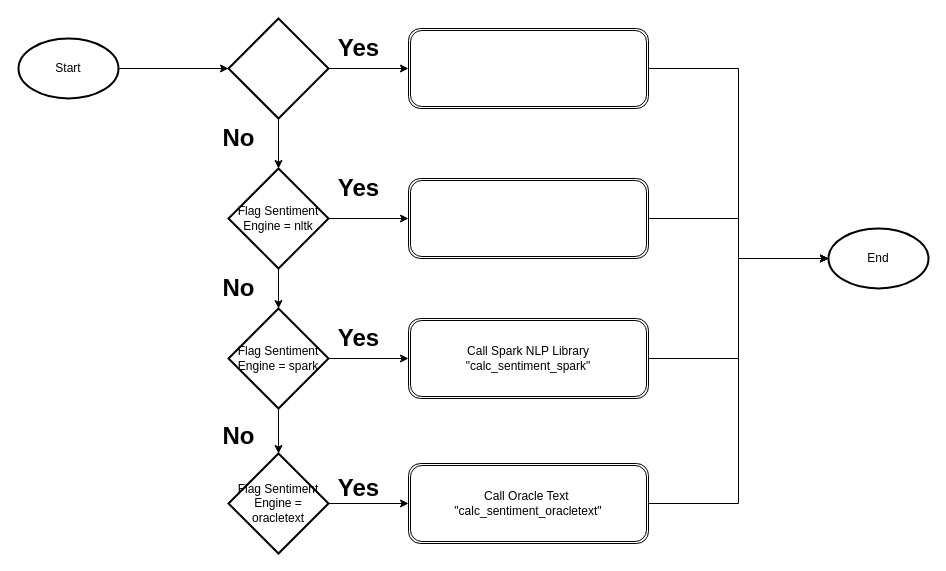
Some shapes in this 946 by 571 pixel diagram are drawn without their labels. Here are the shapes that lost their labels. From the top down, the centre of each, then its label:
pixel 278 68: Flag Sentiment Engine = AILanguage
pixel 528 68: Call AI Language Service "calc_sentiment_aiservice"
pixel 528 218: Call VaderSentiment + nltk Library "calc_sentiment_nltk"
